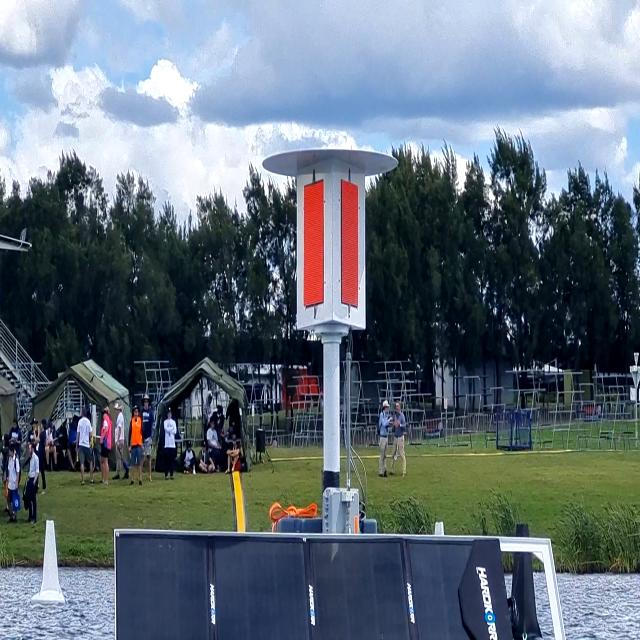led: (301, 174, 362, 316), (335, 168, 363, 315), (300, 170, 327, 314)
